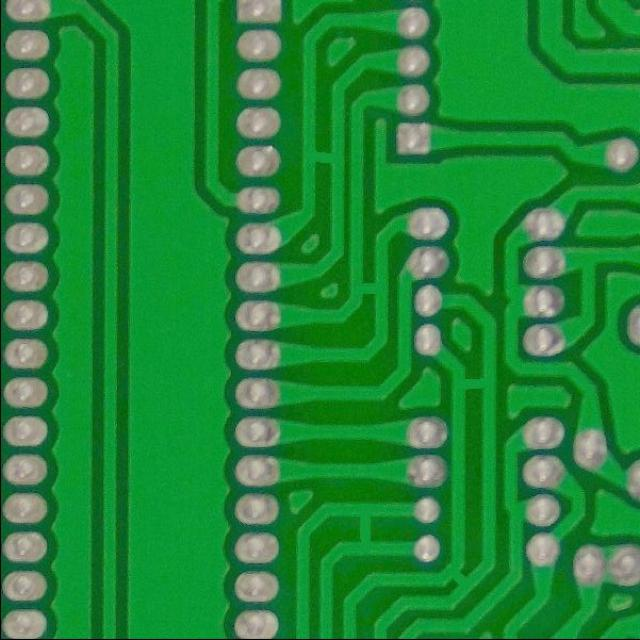Short_Circuit: (340, 493, 392, 561), (293, 134, 351, 181), (441, 364, 504, 405), (342, 268, 395, 306), (439, 559, 480, 594)
